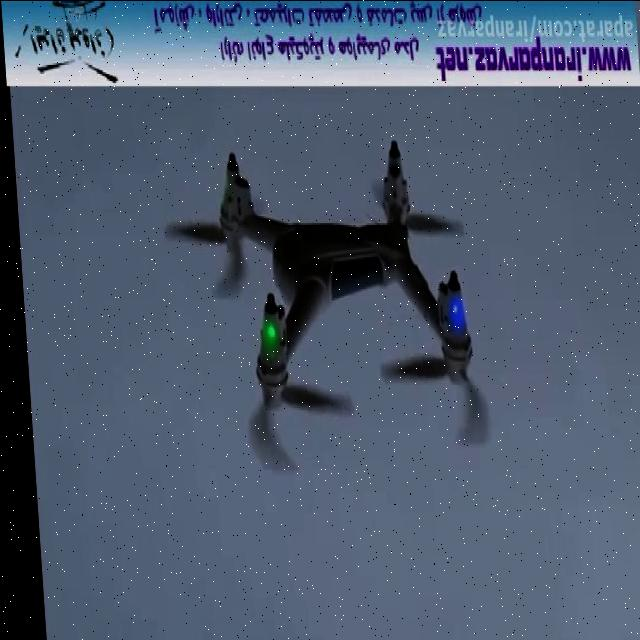drone: (149, 135, 496, 485)
